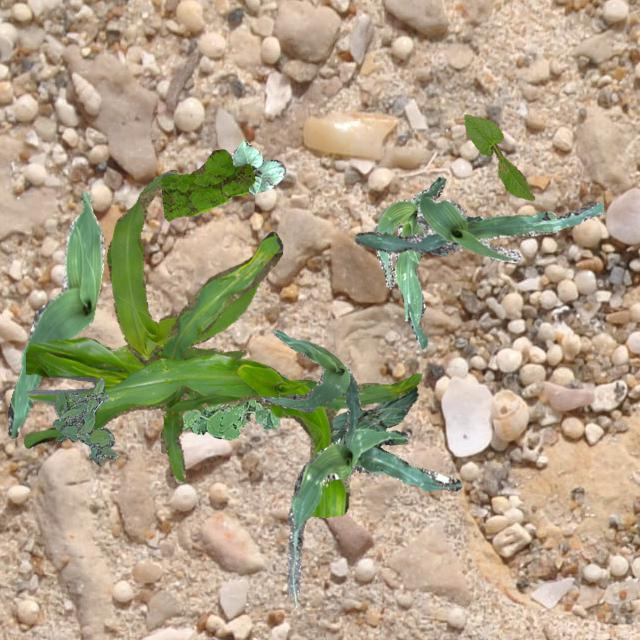crop: (22, 230, 420, 516), (286, 428, 459, 606), (105, 168, 258, 360), (6, 192, 104, 438), (353, 196, 602, 262), (374, 175, 446, 348), (260, 328, 358, 446), (464, 114, 534, 200), (331, 386, 416, 442), (230, 140, 284, 196)
weed: (160, 148, 253, 220), (52, 376, 116, 464), (181, 398, 279, 438)
